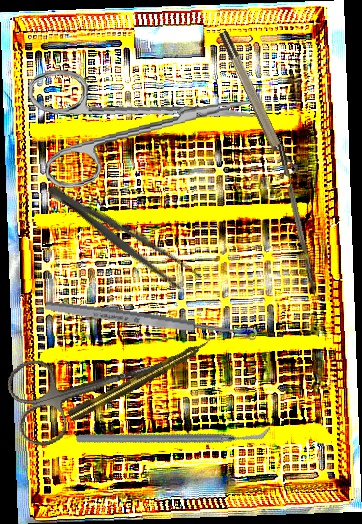Chopper: (74, 358, 274, 511), (278, 142, 325, 305)
Dressing Forceps: (41, 176, 205, 297)
Fixation Ring: (215, 26, 301, 180)
Handpiece: (66, 334, 215, 424)
Iris Scissors: (26, 52, 263, 192), (2, 323, 179, 452)
Surgical Spoon: (44, 298, 258, 343)
